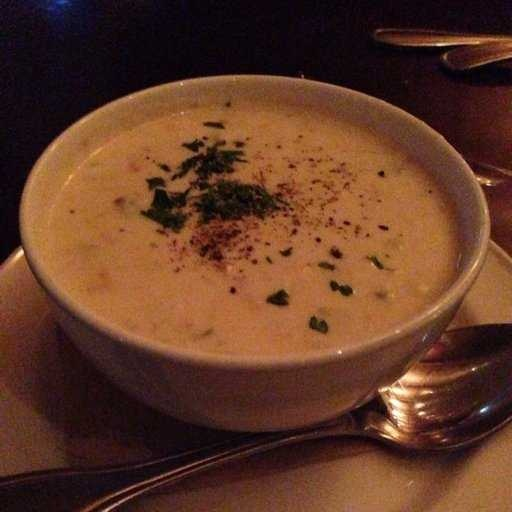soup: (38, 95, 418, 351)
